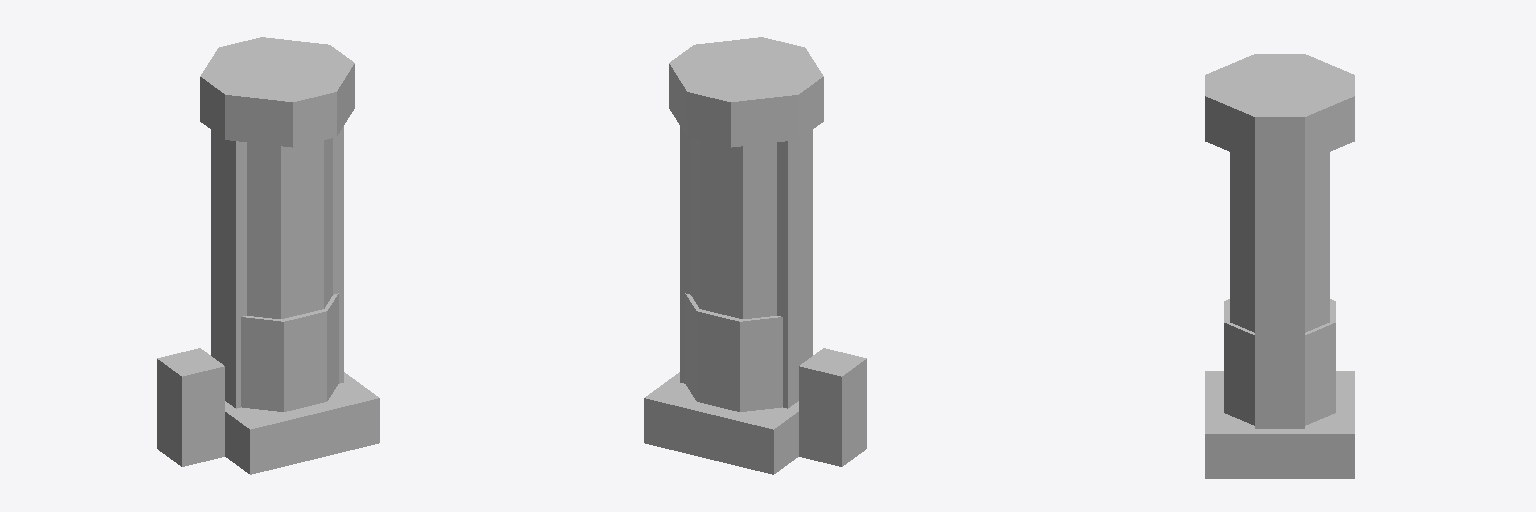
File: charnel_pump.obj
3 views of the same model, side by side, from view 1: azimuth 30°, elevation 25°; view 2: azimuth 150°, elevation 25°; view 3: azimuth 270°, elevation 25° (orthographic).
Parts seen in each view (by area): view 1: cube; view 2: cube; view 3: cube.
Part boxes in pixels (x1,y1,x2,y2): cube: (157,37,379,474); cube: (644,37,866,474); cube: (1205,54,1354,478).
Bounding box in the file's own units: 4 × 8 × 3.